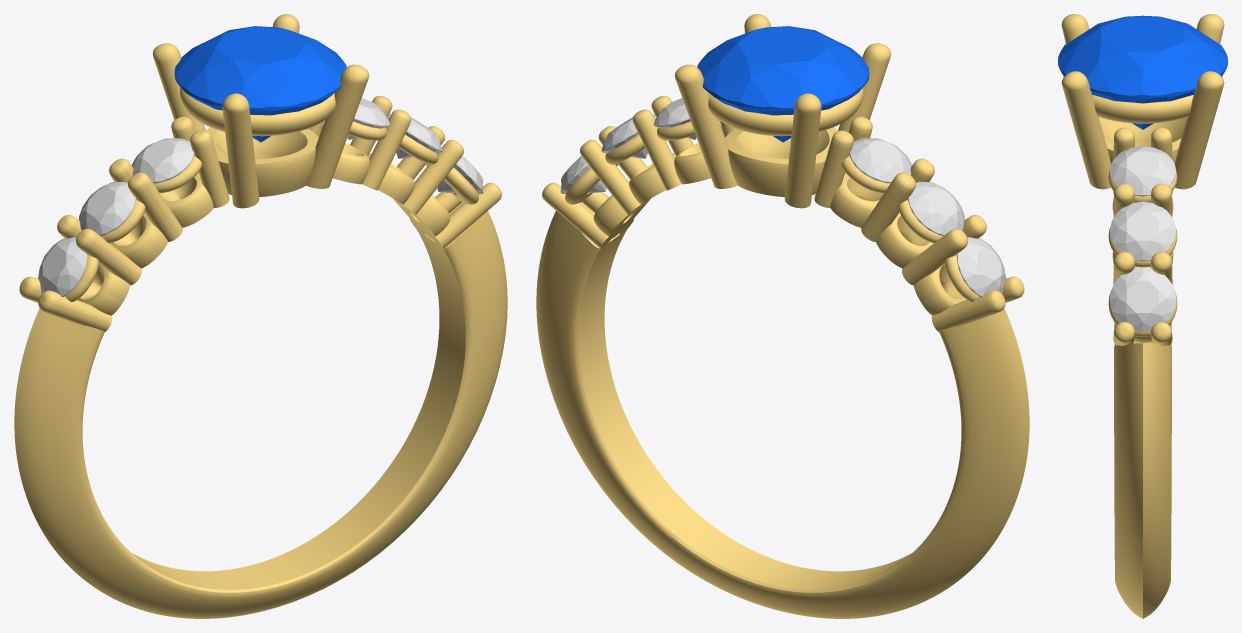
File: bluesapphire-round-yellowgold-4prong-knifeedge-3stone.glb
3 renders of one model, left to right at view 1: azimuth 30°, elevation 25°; view 2: azimuth 150°, elevation 25°; view 3: azimuth 270°, elevation 25°, orthographic.
Visible parts, largest first — view 1: metal, stone, side.001, side.002, side, side.004, side.003, side.005; view 2: metal, stone, side.001, side.002, side, side.004, side.003, side.005; view 3: metal, stone, side.005, side.004, side.003.
Boxes of the visible parts, box(x1,y1,x2,y2) form: metal: box(14, 14, 507, 618); stone: box(174, 26, 346, 142); side.001: box(79, 181, 135, 235); side.002: box(38, 237, 87, 296); side: box(131, 138, 194, 183); side.004: box(387, 114, 442, 158); side.003: box(347, 98, 390, 139); side.005: box(437, 147, 483, 193); metal: box(536, 14, 1029, 618); stone: box(697, 26, 869, 142); side.001: box(908, 181, 964, 235); side.002: box(956, 237, 1005, 296); side: box(849, 138, 912, 183); side.004: box(601, 114, 656, 158); side.003: box(653, 98, 696, 139); side.005: box(560, 147, 606, 193); metal: box(1061, 14, 1224, 618); stone: box(1058, 15, 1227, 129); side.005: box(1110, 267, 1175, 331); side.004: box(1110, 201, 1175, 261); side.003: box(1110, 146, 1175, 196).
Bounding box in the file's own units: 21.24 × 23.31 × 6.44.
